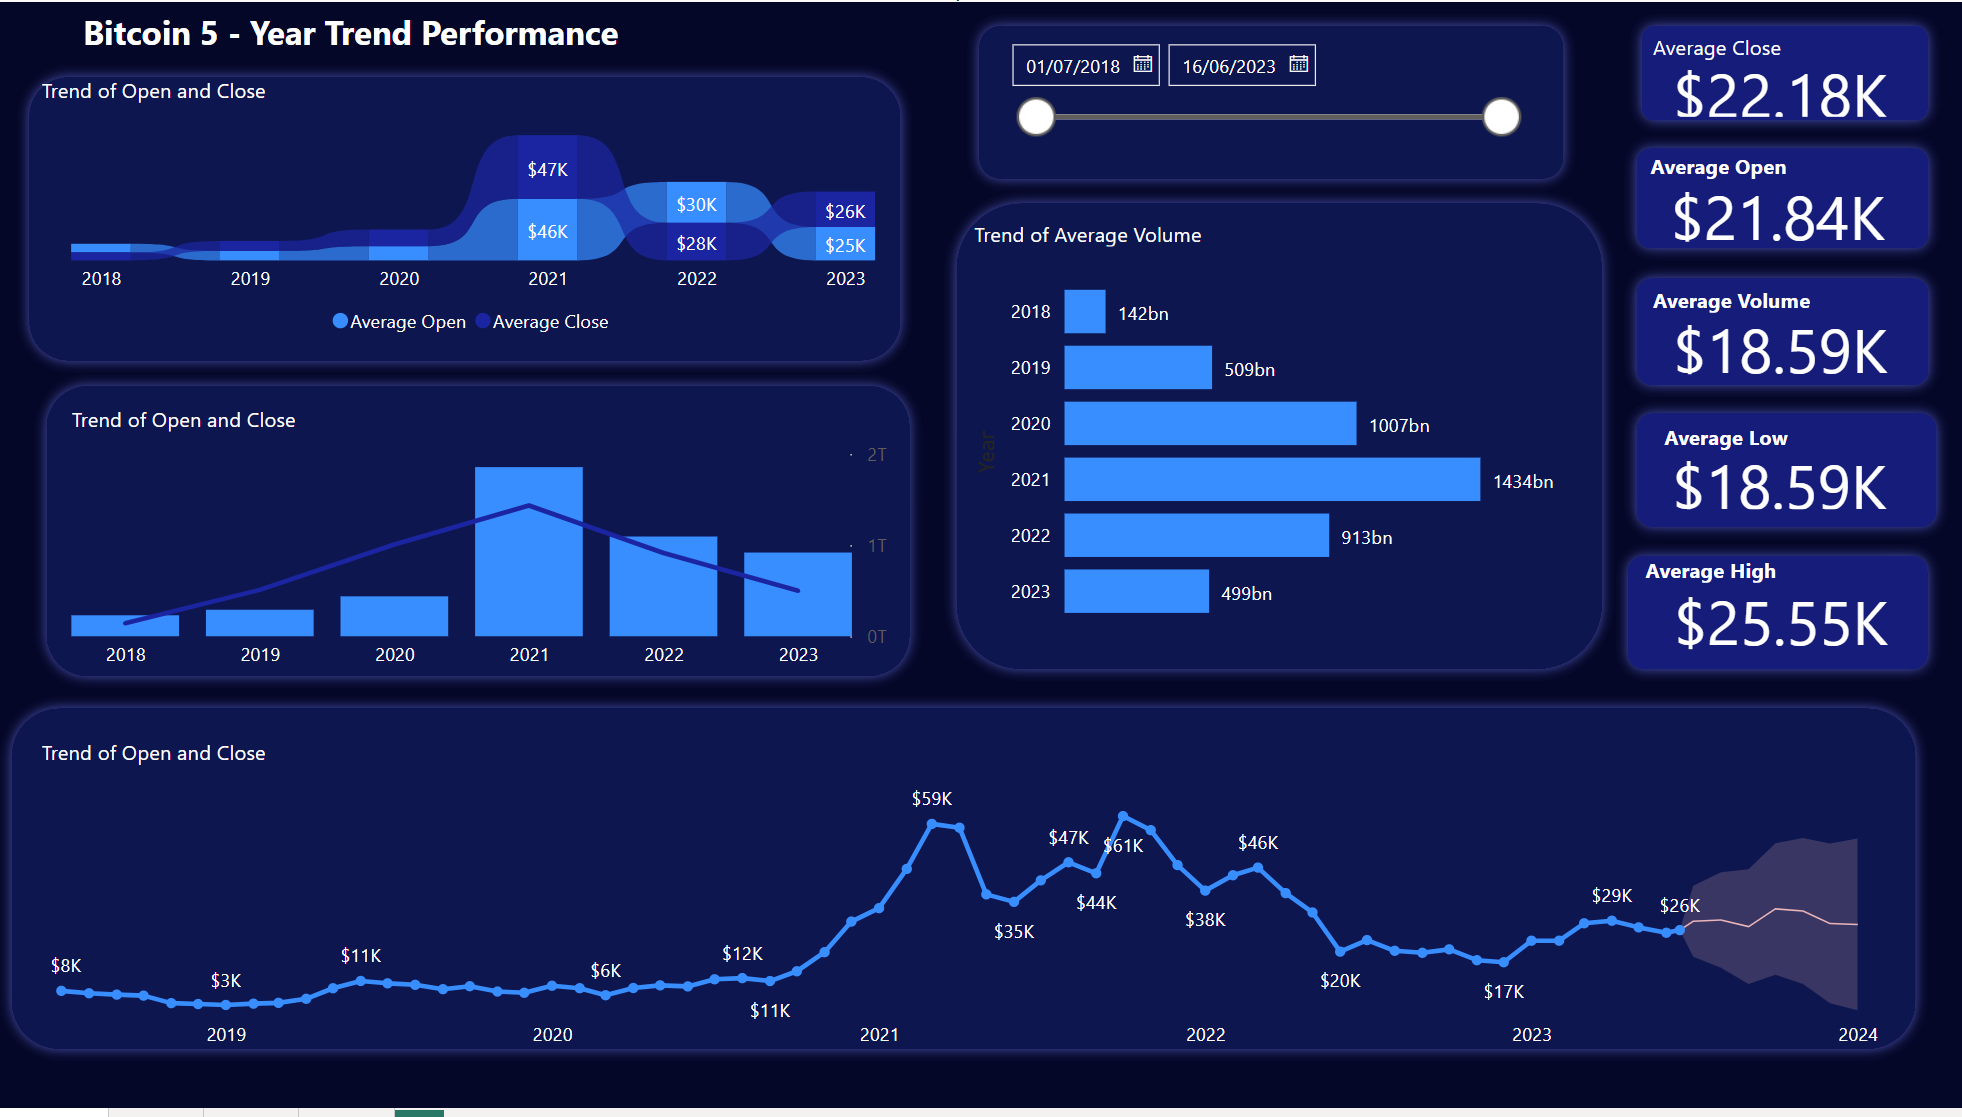

What the dashboard file says about the page in this screenshot:
{"tool":"powerbi","page":{"name":"CALCULATIONS","canvas":[1280,720],"ordinal":0},"visuals":[{"type":"shape","box":[0,451.6,1255.6,238.2],"z":0},{"type":"shape","box":[1060.8,7.1,202.8,77.9],"z":1000},{"type":"shape","box":[1057.2,87.4,206.3,81.5],"z":2000},{"type":"shape","box":[1057.2,259.7,211.6,90.3],"z":3000},{"type":"shape","box":[1057.2,171.3,206.3,85.9],"z":4000},{"type":"shape","box":[1051.9,352.4,211.6,90.3],"z":5000},{"type":"shape","box":[11.5,40.7,583.5,201],"z":6000},{"type":"ribbonChart","title":"Trend of Open and Close","fields":{"Category":["BTC.Date.Variation.Date Hierarchy.Year"],"Y":["_Measures.Average Open","_Measures.Average Close"]},"box":[23,47.8,572,178],"z":7000},{"type":"card","title":"Average Close","fields":{"Values":["_Measures.Average Close"]},"box":[1071.4,20.4,176.2,59.3],"z":9000},{"type":"card","title":"Average Open","fields":{"Values":["_Measures.Average Open"]},"box":[1069.6,97.4,176.2,63.8],"z":11000},{"type":"card","title":"Average Low","fields":{"Values":["_Measures.Average Low"]},"box":[1078.5,274.5,160.3,61.1],"z":12000},{"type":"card","title":"Average High","fields":{"Values":["_Measures.Average High"]},"box":[1067,360.4,186.8,65.5],"z":14000},{"type":"card","title":"Average Volume","fields":{"Values":["_Measures.Average Low"]},"box":[1071.4,185.1,176.2,62.9],"z":15000},{"type":"textbox","box":[49.6,0,533.9,40.7],"z":16000},{"type":"lineChart","title":"Trend of Open and Close","fields":{"Y":["_Measures.Average Close"],"Category":["BTC.Date"]},"box":[23,479,1205.1,210.7],"z":17000},{"type":"shape","box":[629.6,7.1,396.7,116],"z":19000},{"type":"shape","box":[23,241.7,578.2,205.4],"z":19500},{"type":"slicer","fields":{"Values":["BTC.Date"]},"box":[646.4,16.8,352.4,96.5],"z":20000},{"type":"shape","box":[615.4,123.1,436.5,319.6],"z":20250},{"type":"lineClusteredColumnComboChart","title":"Trend of Open and Close","fields":{"Category":["BTC.Date.Variation.Date Hierarchy.Year"],"Y":["_Measures.Average High"],"Y2":["_Measures.Average Volume"]},"box":[42.5,262.1,541,180.6],"z":20500},{"type":"clusteredBarChart","title":"Trend of Average Volume","fields":{"Category":["BTC.Date.Variation.Date Hierarchy.Year"],"Y":["_Measures.Average Volume"]},"box":[629.6,141.7,394.9,276.3],"z":21000}]}

Visuals, with their boxes in screenshot pixels (x1, y1, x2, y2), scaled from the page's 1280x720 canvas onto the 1962x1117 screenshot:
shape: x1=0 y1=701 x2=1925 y2=1070
shape: x1=1626 y1=11 x2=1937 y2=132
shape: x1=1620 y1=136 x2=1937 y2=262
shape: x1=1620 y1=403 x2=1945 y2=543
shape: x1=1620 y1=266 x2=1937 y2=399
shape: x1=1612 y1=547 x2=1937 y2=687
shape: x1=18 y1=63 x2=912 y2=375
"Trend of Open and Close" ribbonChart: x1=35 y1=74 x2=912 y2=350
"Average Close" card: x1=1642 y1=32 x2=1912 y2=124
"Average Open" card: x1=1639 y1=151 x2=1910 y2=250
"Average Low" card: x1=1653 y1=426 x2=1899 y2=521
"Average High" card: x1=1636 y1=559 x2=1922 y2=661
"Average Volume" card: x1=1642 y1=287 x2=1912 y2=385
textbox: x1=76 y1=0 x2=894 y2=63
"Trend of Open and Close" lineChart: x1=35 y1=743 x2=1882 y2=1070
shape: x1=965 y1=11 x2=1573 y2=191
shape: x1=35 y1=375 x2=922 y2=694
slicer - BTC.Date: x1=991 y1=26 x2=1531 y2=176
shape: x1=943 y1=191 x2=1612 y2=687
"Trend of Open and Close" lineClusteredColumnComboChart: x1=65 y1=407 x2=894 y2=687
"Trend of Average Volume" clusteredBarChart: x1=965 y1=220 x2=1570 y2=648
